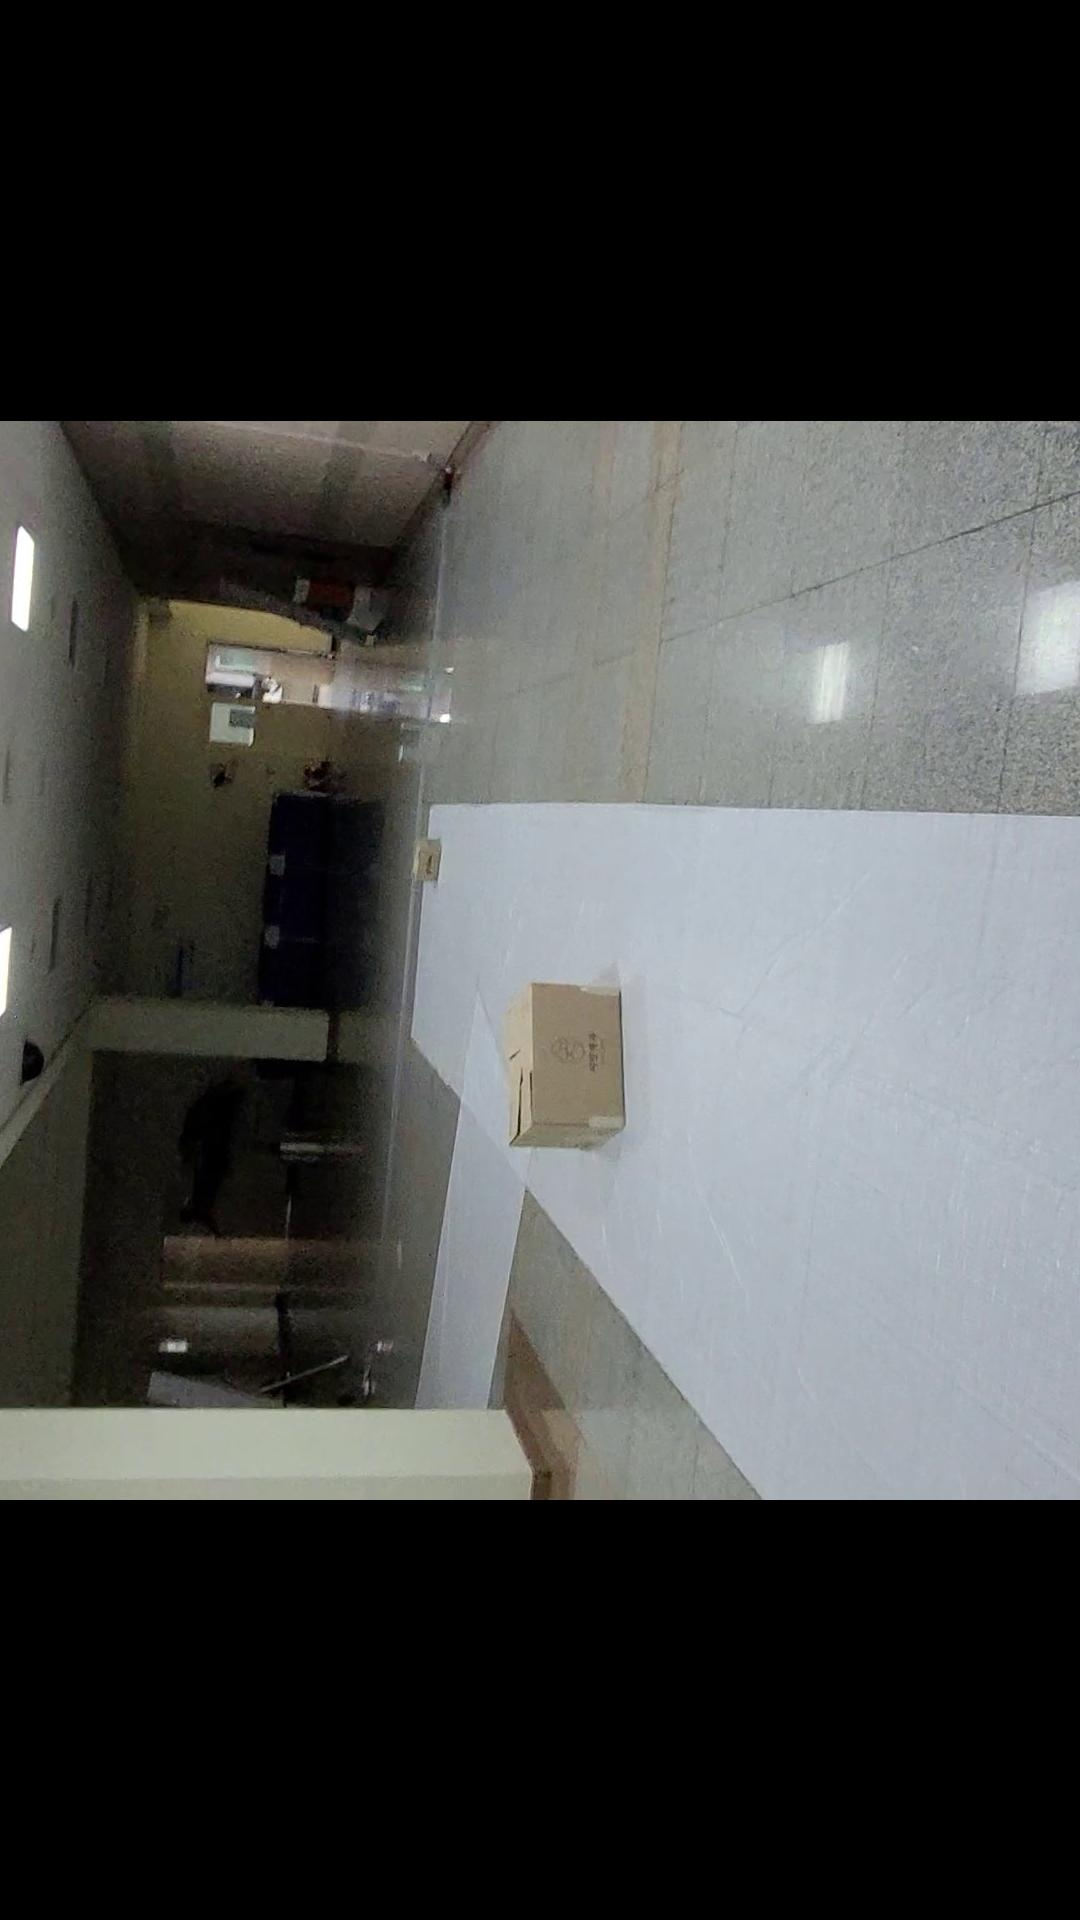Box: (491, 960, 651, 1153), (385, 825, 450, 905)
